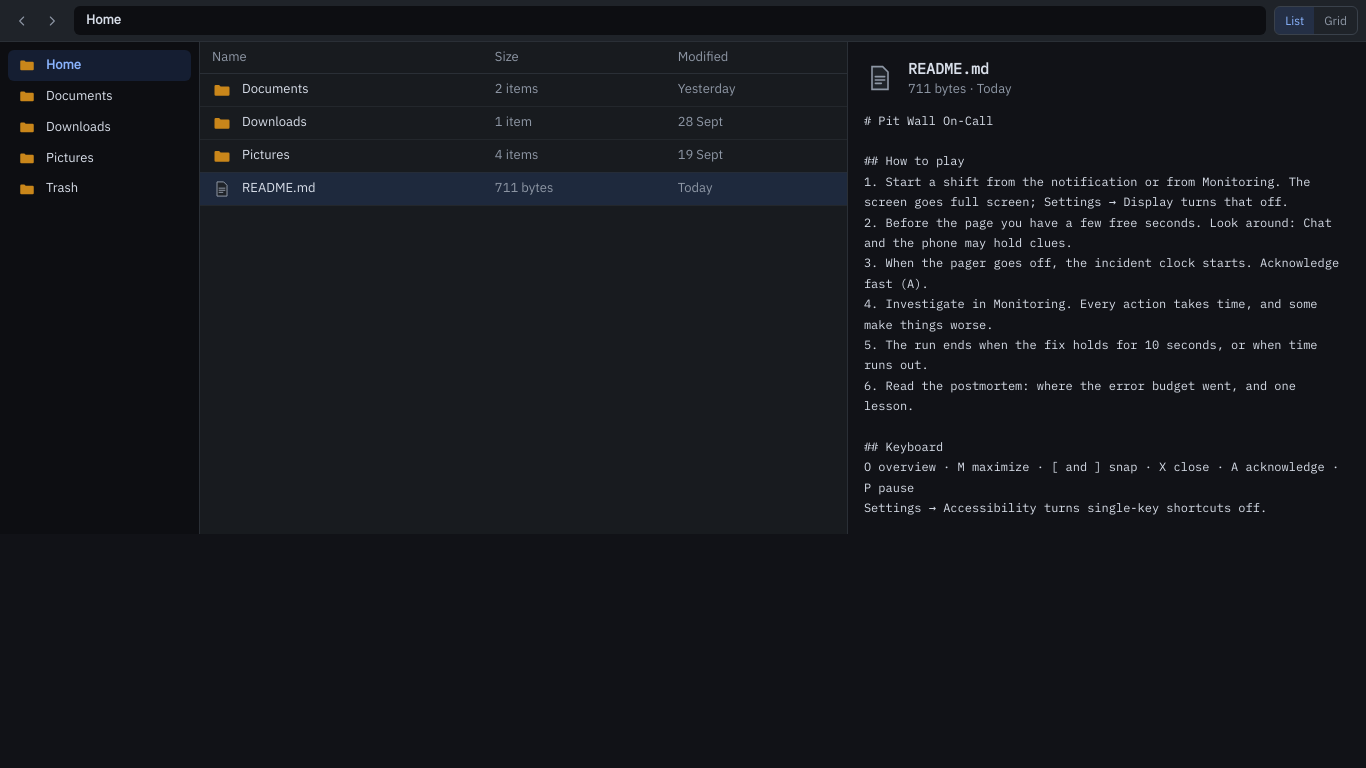
Scenario: FilesApp › navigates with Places, the path bar, back and forward, and fills files with the shift's world
Click the 1st button "Documents" at (100, 96), box [8,81,191,112]
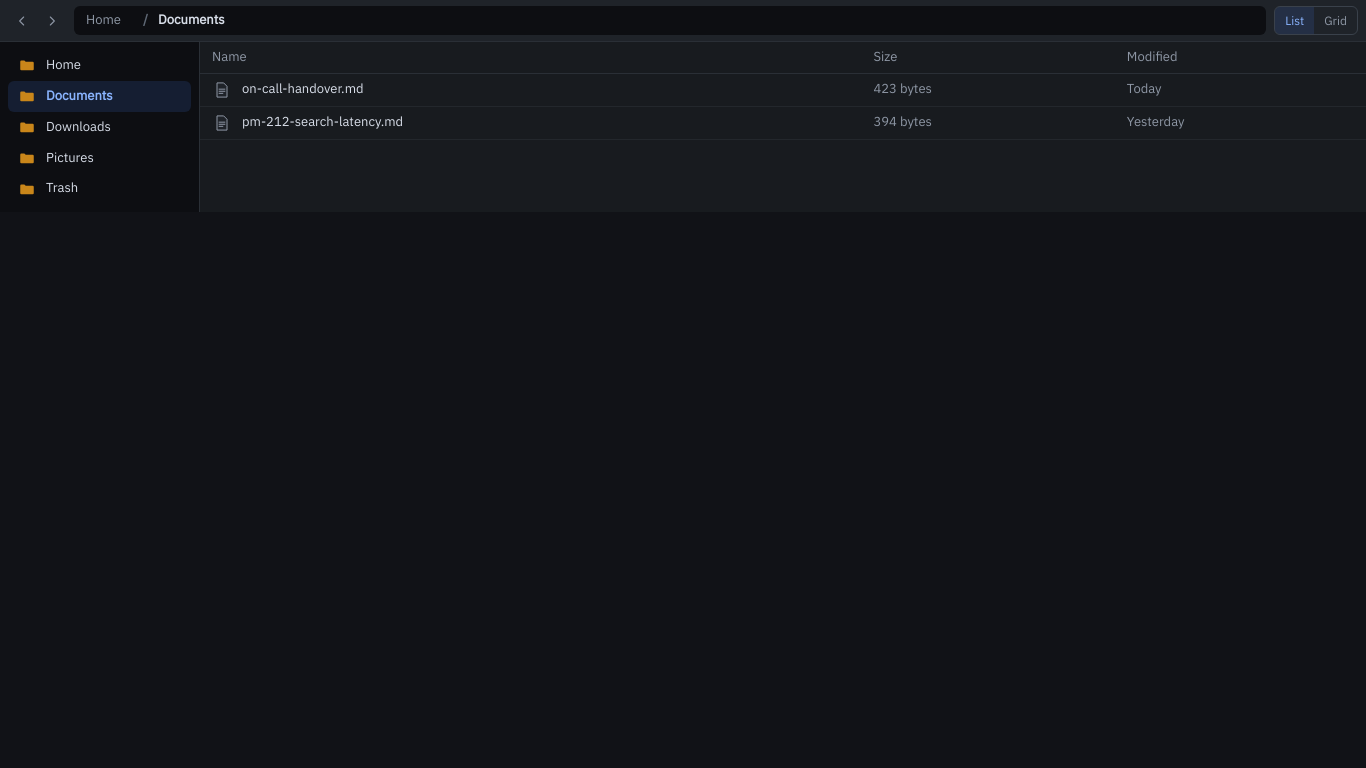
Expected: the table named "Documents" is shown, [200,42,1365,140]
Click the button "on-call-handover.md" at (303, 89), box [212,74,849,106]
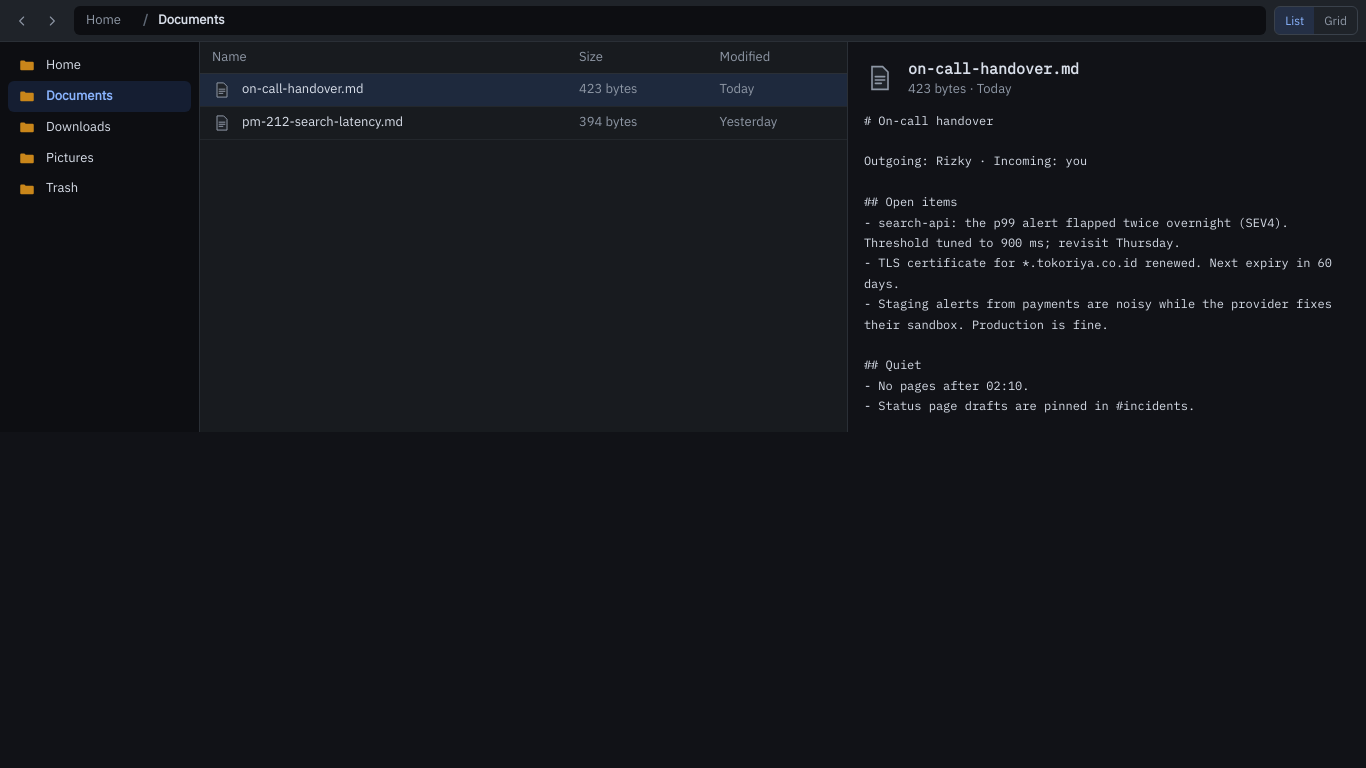
Expected: the element "on-call-handover.md" shows "Rizky", [864,113,1339,413]
Expected: the element "on-call-handover.md" shows "tokoriya.co.id", [864,113,1339,413]
Click the 1st button "Home" at (104, 20), box [76,8,131,33]
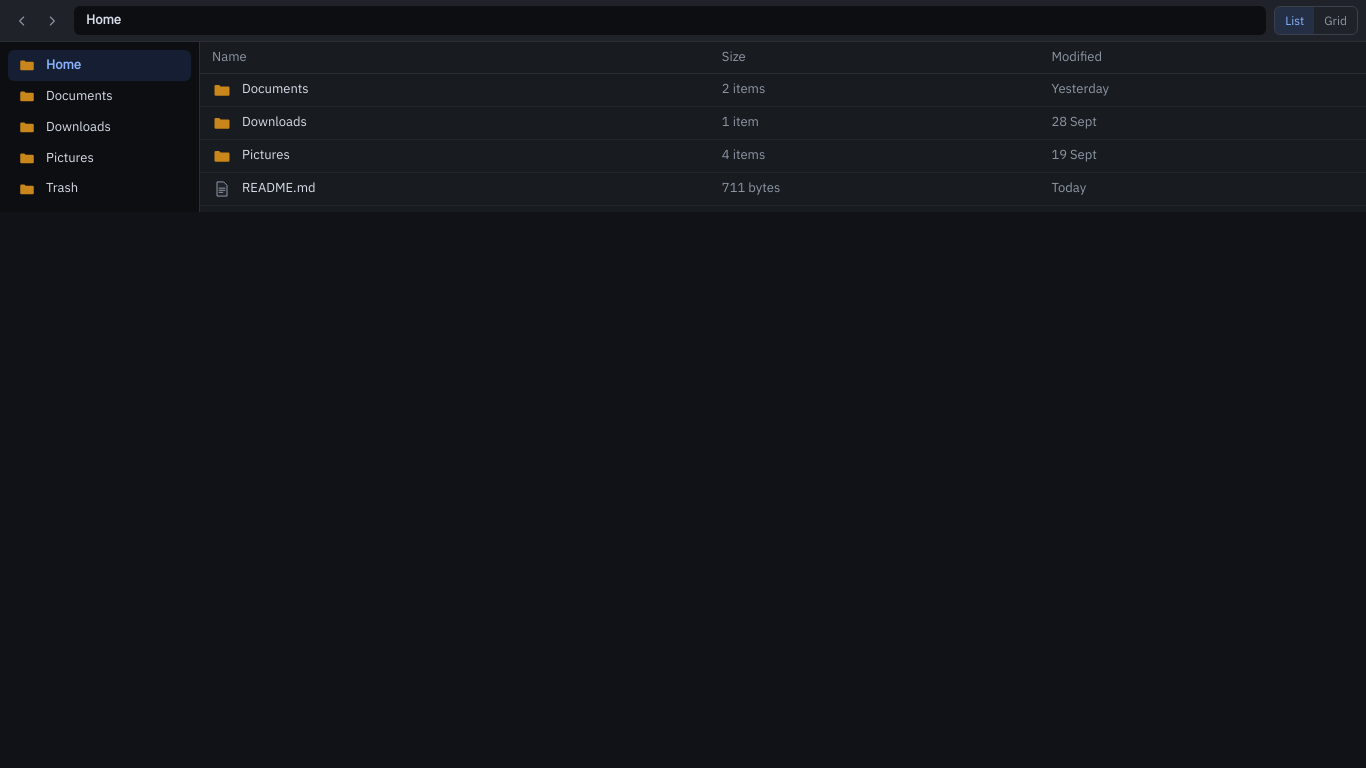
Expected: the table named "Home" is shown, [200,42,1365,206]
Click the button named "Back" at (22, 20), box [8,6,36,34]
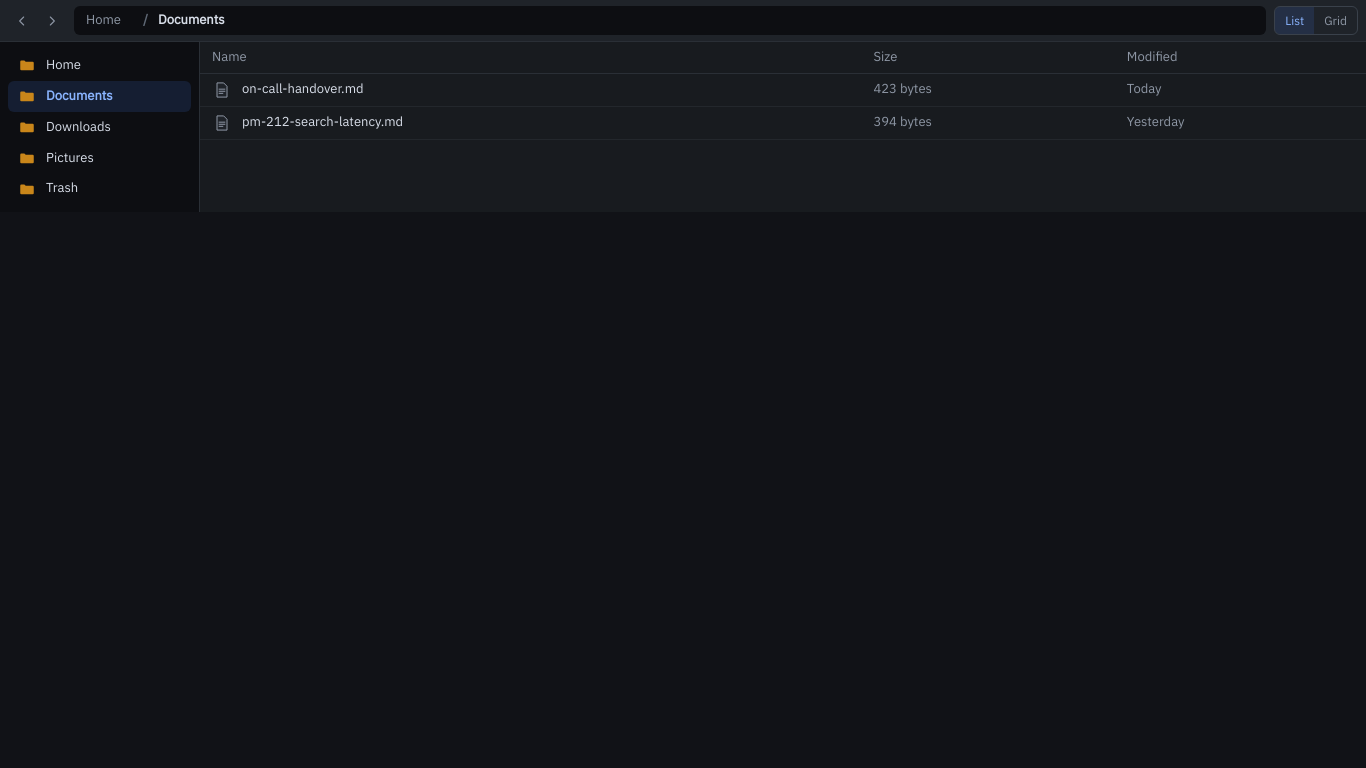
Expected: the table named "Documents" is shown, [200,42,1365,140]
Click the button named "Forward" at (52, 20), box [38,6,66,34]
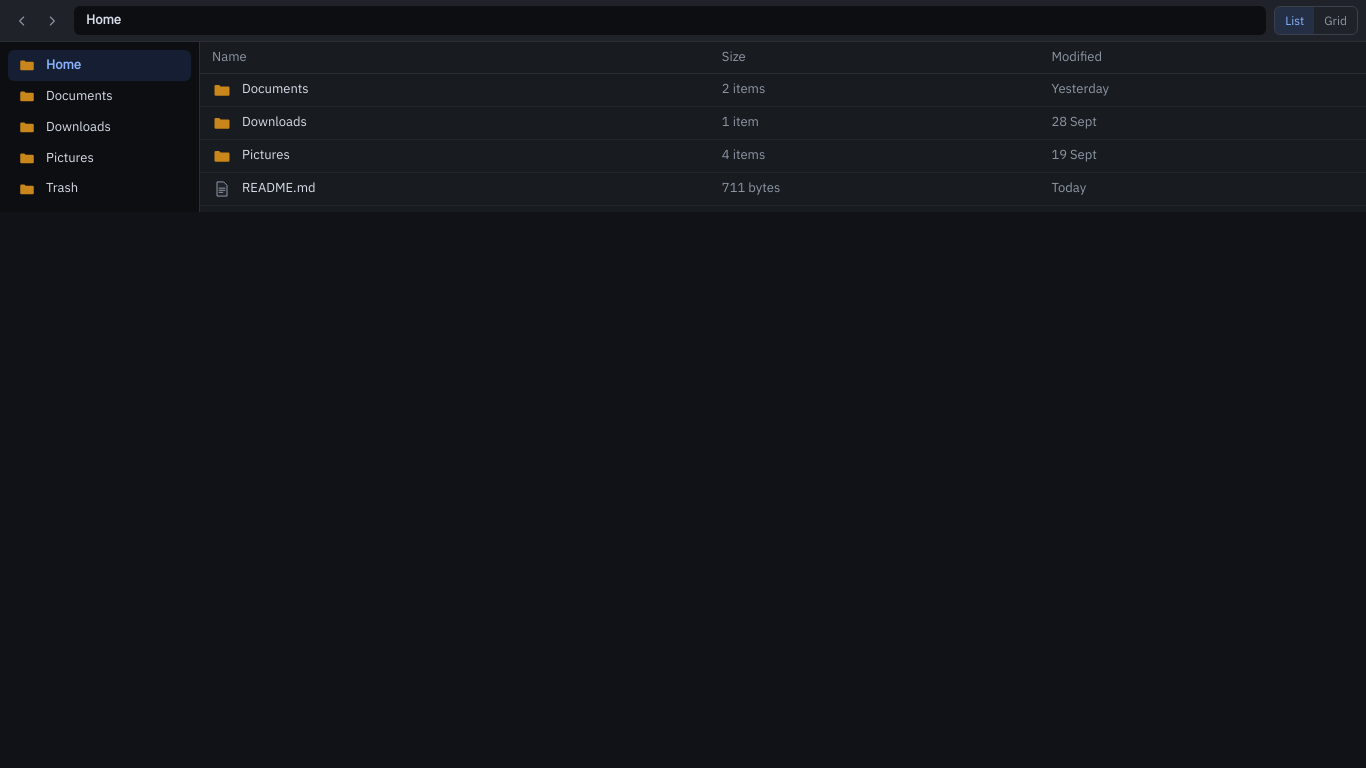
Expected: the table named "Home" is shown, [200,42,1365,206]
